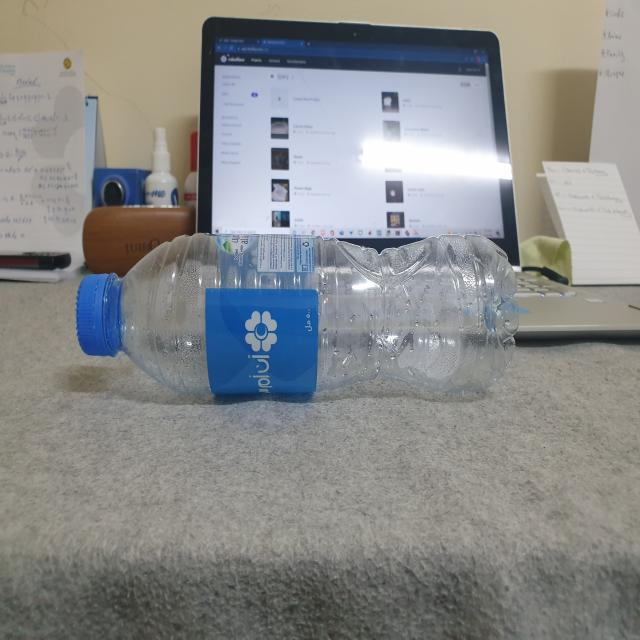bottle: (72, 230, 525, 403)
